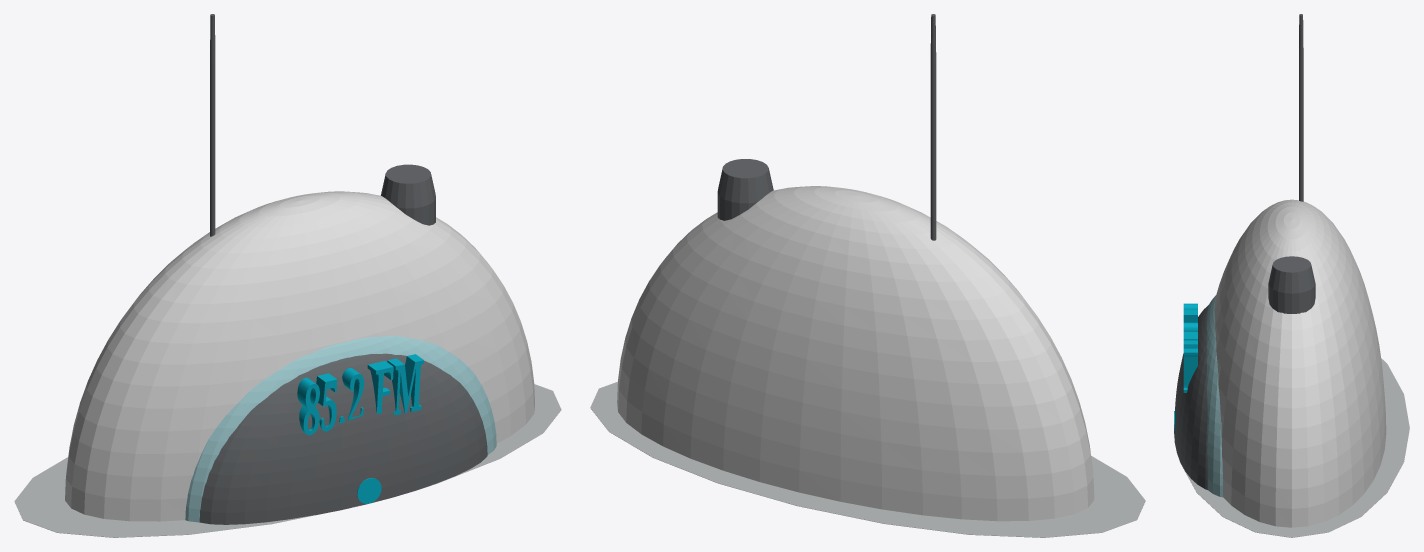
The model's file is RadioPortal.glb.
3 views of the same model, side by side, from view 1: azimuth 30°, elevation 25°; view 2: azimuth 150°, elevation 25°; view 3: azimuth 270°, elevation 25° (orthographic). The views are drawn at different scales.
Visible parts, largest first — view 1: Mesh_Mesh_head_geo.001_lambert2SG.001; view 2: Mesh_Mesh_head_geo.001_lambert2SG.001; view 3: Mesh_Mesh_head_geo.001_lambert2SG.001.
Boxes of the visible parts, left/top/right/bottom form: Mesh_Mesh_head_geo.001_lambert2SG.001: left=14, top=14, right=561, bottom=537; Mesh_Mesh_head_geo.001_lambert2SG.001: left=590, top=14, right=1145, bottom=537; Mesh_Mesh_head_geo.001_lambert2SG.001: left=1174, top=14, right=1409, bottom=537.
Bounding box in the file's own units: 22 × 18 × 10.
